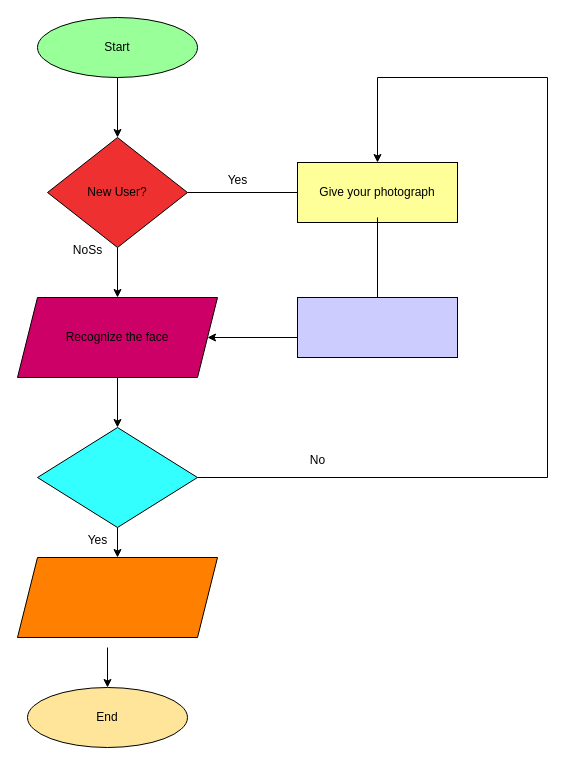
The diagram is 566 pixels wide and 765 high, and some of its shapes have lost their labels. Each missing label, with the box of its shape:
Face Recognized: (36, 426, 198, 528)
Store the face data in folder on your name: (296, 296, 458, 358)
Stored in cvs file with Registration number & date .time if entry: (16, 556, 218, 638)
